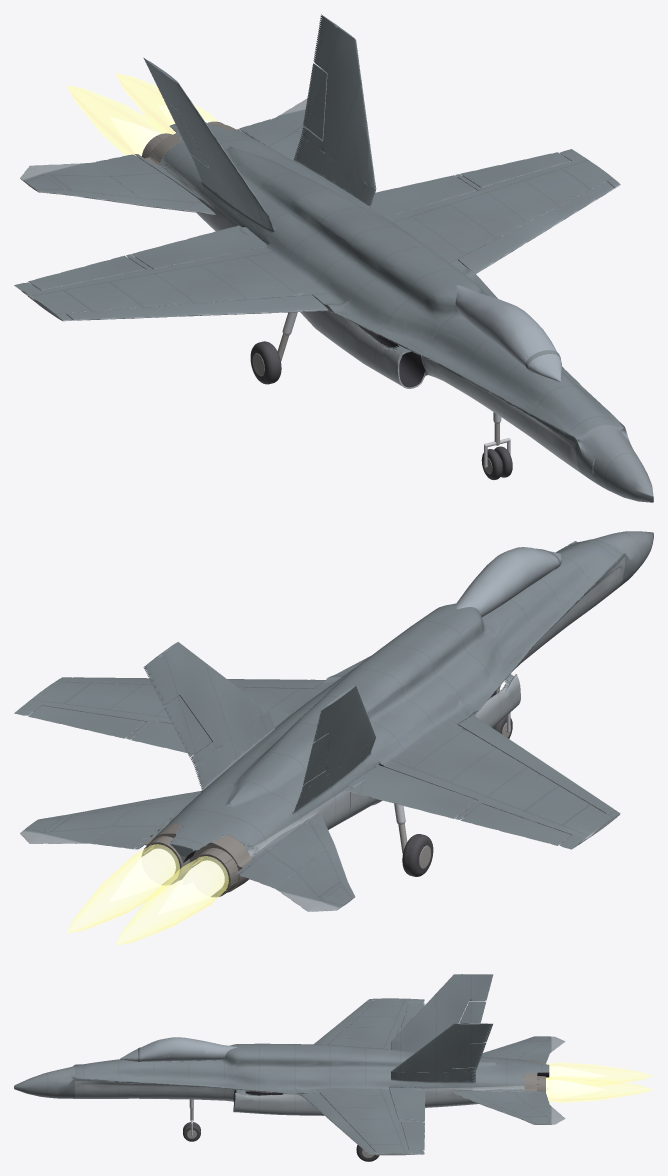
3 views of the same model, one above another, from view 1: azimuth 30°, elevation 25°; view 2: azimuth 150°, elevation 25°; view 3: azimuth 270°, elevation 25° (orthographic). The views are drawn at different scales.
Visible parts, largest first — view 1: airframe, fsim:elevator+aileron:-0.4@-24,10.5, fsim:lef@-3,34 (×2), fsim:flaps (×2), fsim:aileron (×2), fsim:afterburner:1, fsim:elevator+aileron:0.4@-24,10.5, fsim:afterburner:0, fsim:rudder, fsim:wheel:2:0.381, fsim:wheel:0:0.2795; view 2: airframe, fsim:elevator+aileron:-0.4@-24,10.5, fsim:elevator+aileron:0.4@-24,10.5, fsim:afterburner:1, fsim:afterburner:0, fsim:flaps (×2), fsim:aileron (×2), fsim:lef@-3,34 (×2), fsim:rudder (×2), fsim:wheel:2:0.381; view 3: airframe, fsim:elevator+aileron:0.4@-24,10.5, fsim:afterburner:0, fsim:afterburner:1, fsim:lef@-3,34 (×2), fsim:elevator+aileron:-0.4@-24,10.5, fsim:flaps, fsim:rudder (×2), fsim:aileron.
Part boxes in pixels (<box>): airframe: <box>14,14,653,502</box>; fsim:elevator+aileron:-0.4@-24,10.5: <box>20,154,215,214</box>; fsim:lef@-3,34 (×2): <box>66,182,614,320</box>; fsim:flaps (×2): <box>131,175,476,269</box>; fsim:aileron (×2): <box>28,152,570,290</box>; fsim:afterburner:1: <box>66,85,169,156</box>; fsim:elevator+aileron:0.4@-24,10.5: <box>239,98,310,159</box>; fsim:afterburner:0: <box>115,73,218,134</box>; fsim:rudder: <box>303,63,327,139</box>; fsim:wheel:2:0.381: <box>250,341,281,384</box>; fsim:wheel:0:0.2795: <box>481,446,512,479</box>; airframe: <box>14,531,653,892</box>; fsim:elevator+aileron:-0.4@-24,10.5: <box>239,814,355,911</box>; fsim:elevator+aileron:0.4@-24,10.5: <box>20,791,201,849</box>; fsim:afterburner:1: <box>115,856,228,945</box>; fsim:afterburner:0: <box>66,844,179,933</box>; fsim:flaps (×2): <box>131,721,476,818</box>; fsim:aileron (×2): <box>28,705,570,845</box>; fsim:lef@-3,34 (×2): <box>66,677,614,813</box>; fsim:rudder (×2): <box>164,696,329,784</box>; fsim:wheel:2:0.381: <box>402,834,433,876</box>; airframe: <box>14,974,549,1155</box>; fsim:elevator+aileron:0.4@-24,10.5: <box>452,1091,565,1124</box>; fsim:afterburner:0: <box>546,1076,653,1102</box>; fsim:afterburner:1: <box>546,1062,653,1086</box>; fsim:lef@-3,34 (×2): <box>301,1001,374,1151</box>; fsim:elevator+aileron:-0.4@-24,10.5: <box>481,1036,565,1062</box>; fsim:flaps: <box>389,1087,425,1120</box>; fsim:rudder (×2): <box>453,1001,486,1068</box>; fsim:aileron: <box>401,1121,424,1150</box>.
Bounding box in the file's own units: 11.43 × 4.86 × 19.95.
Materials: 9 (1 with a texture image).
